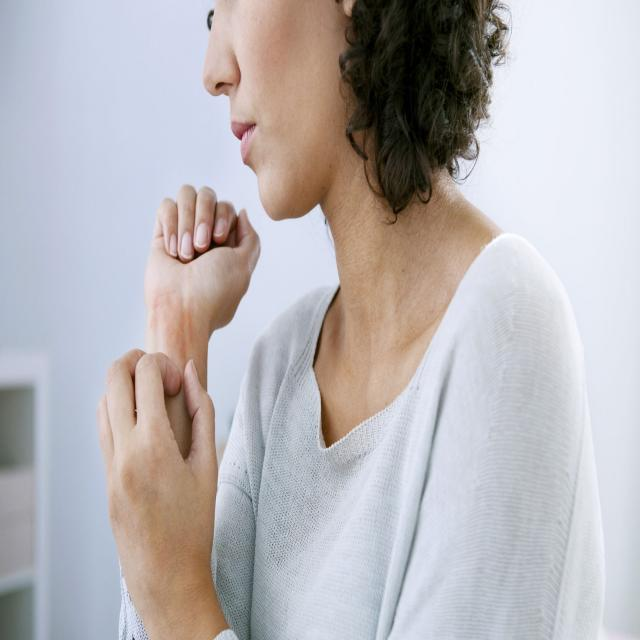hives: (150, 290, 197, 358)
